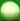white: (0, 0, 20, 21)
